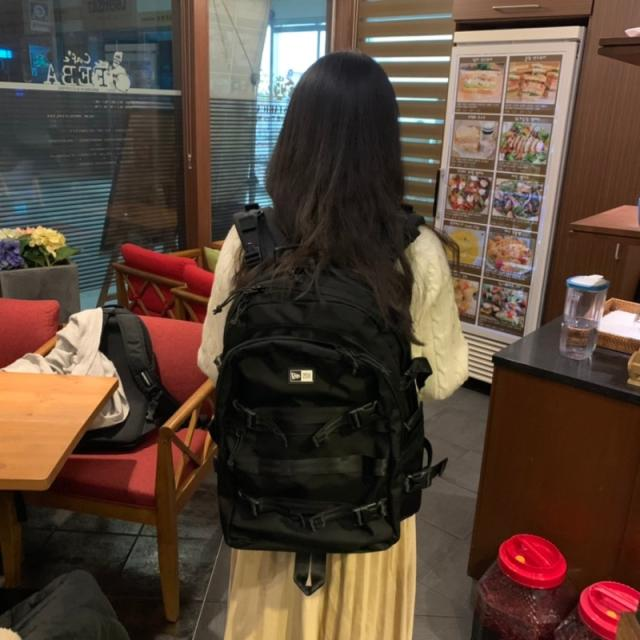backpack: (190, 234, 444, 557)
